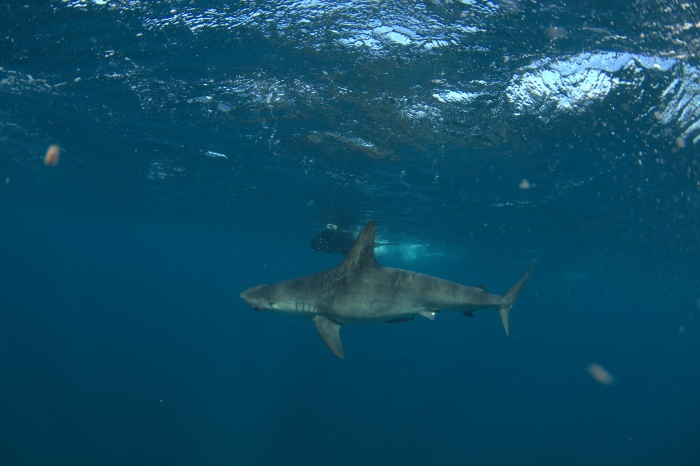Hammer: (232, 212, 569, 382)
